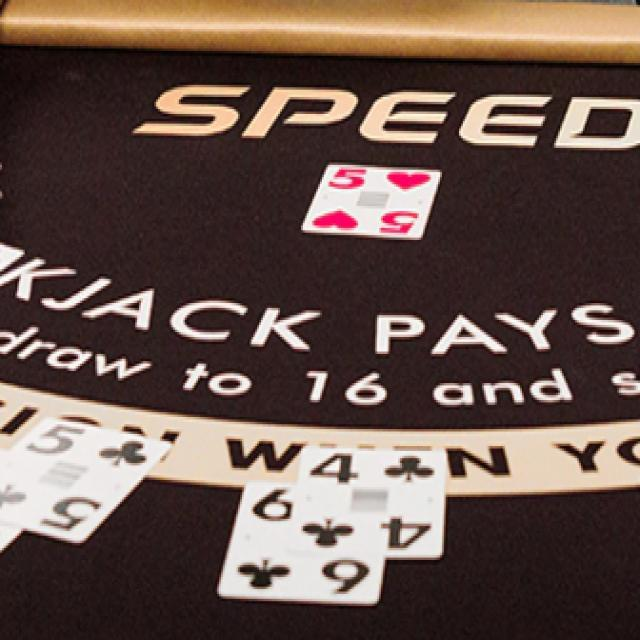Card-4: (293, 445, 447, 560)
Card-5: (0, 416, 174, 544), (301, 161, 442, 241)
Card-6: (219, 480, 383, 602)
